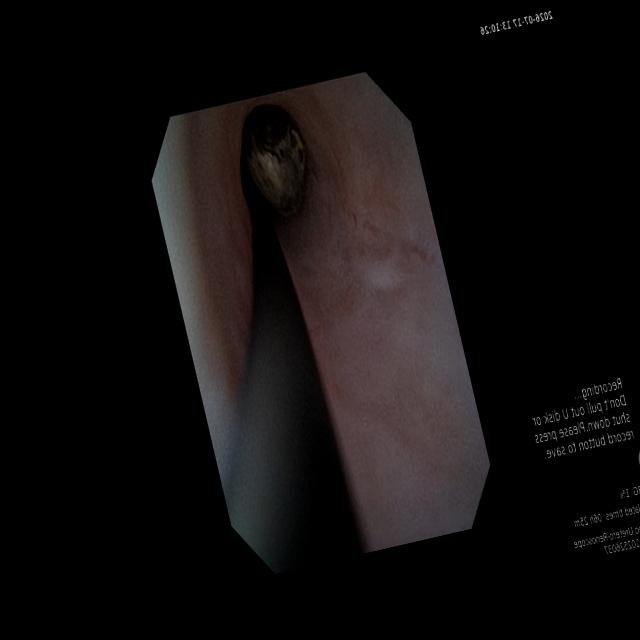stone-new: (242, 107, 305, 215)
